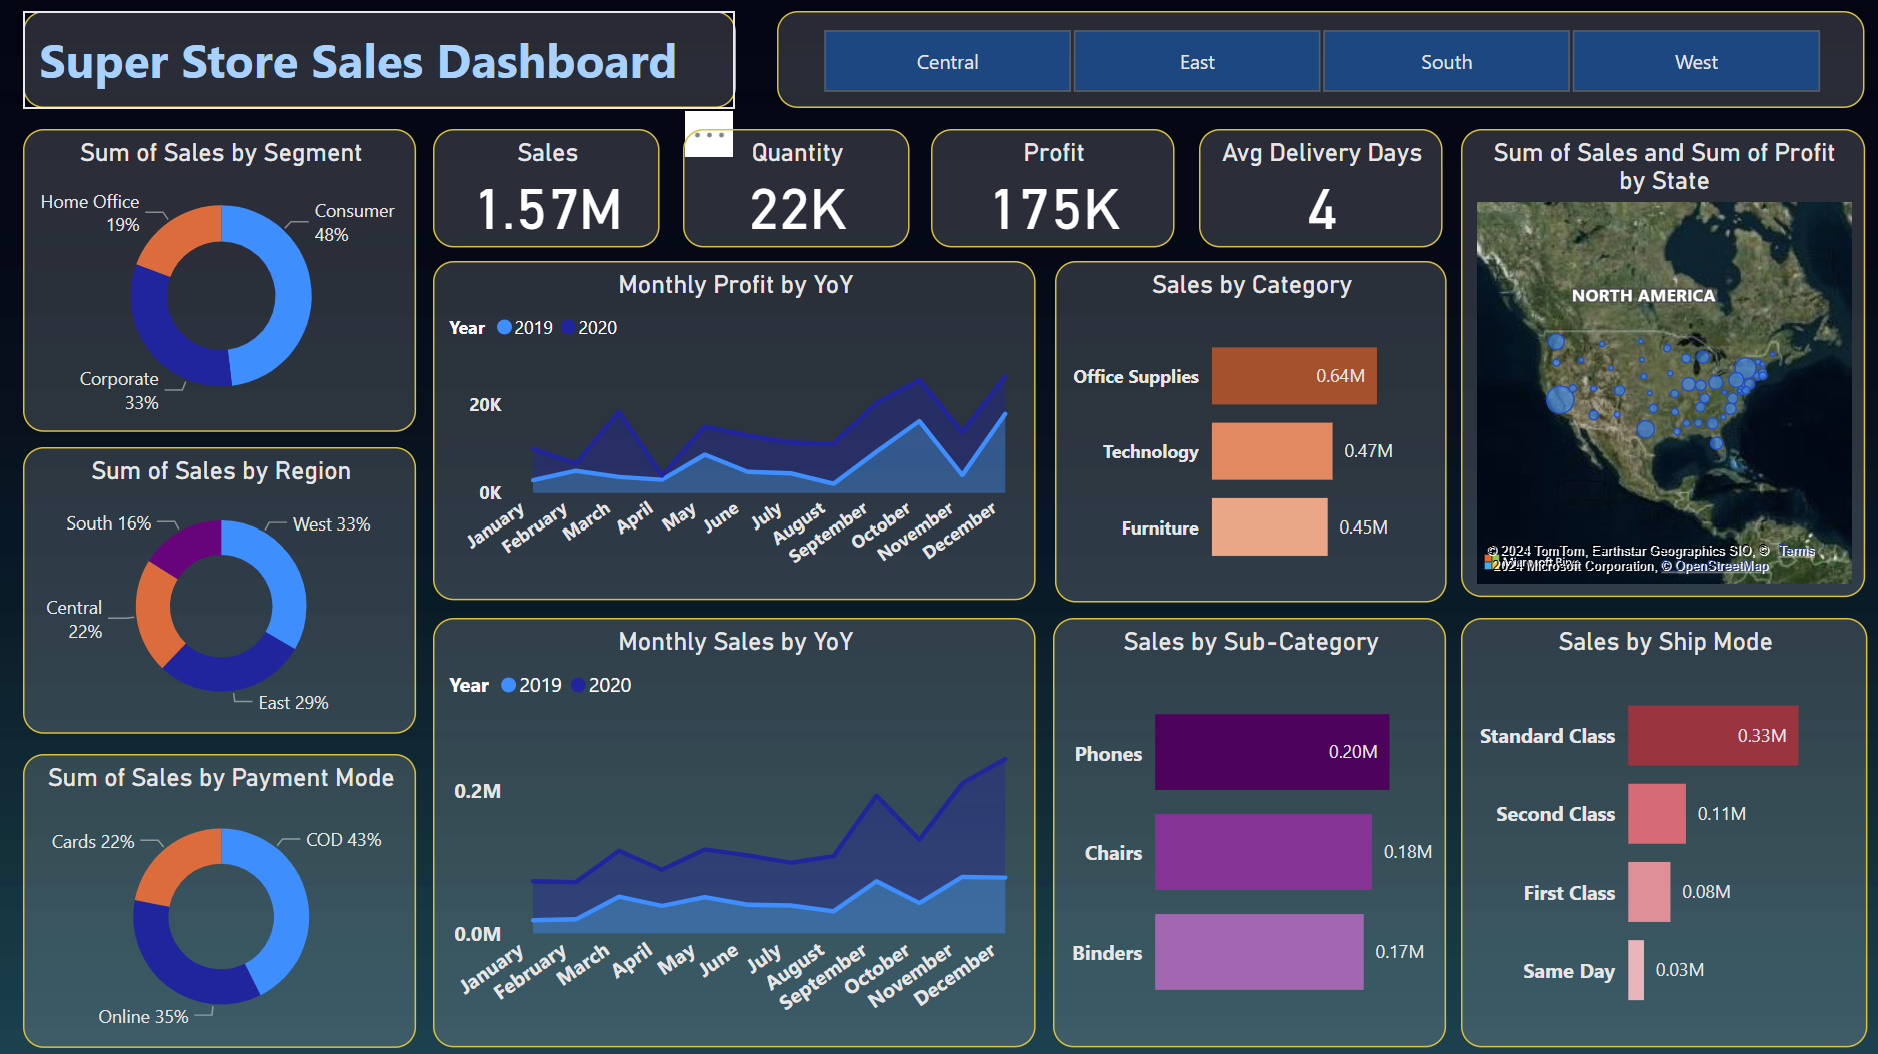

The page's visual inventory and layout, read from the dashboard file:
{"tool":"powerbi","page":{"name":"Page 1","canvas":[1280,720],"ordinal":0},"visuals":[{"type":"clusteredBarChart","title":"Sales by Category","fields":{"Category":["SuperStore_Sales_Dataset.Category"],"Y":["Sum(SuperStore_Sales_Dataset.Sales)"]},"box":[718.6,180,264.3,230],"z":0},{"type":"clusteredBarChart","title":"Sales by Sub-Category","fields":{"Y":["Sum(SuperStore_Sales_Dataset.Sales)"],"Category":["SuperStore_Sales_Dataset.Sub-Category"]},"box":[717.1,420,265.7,290],"z":1000},{"type":"clusteredBarChart","title":"Sales by Ship Mode","fields":{"Y":["Sum(SuperStore_Sales_Dataset.Sales)"],"Category":["SuperStore_Sales_Dataset.Ship Mode"]},"box":[992.9,420,274.3,290],"z":2000},{"type":"stackedAreaChart","title":"Monthly Sales by YoY","fields":{"Y":["Sum(SuperStore_Sales_Dataset.Sales)"],"Category":["SuperStore_Sales_Dataset.Order Date.Variation.Date Hierarchy.Month","SuperStore_Sales_Dataset.Order Date.Variation.Date Hierarchy.Day"],"Series":["SuperStore_Sales_Dataset.Order Date.Variation.Date Hierarchy.Year"]},"box":[298.6,420,407.1,290],"z":3000},{"type":"stackedAreaChart","title":"Monthly Profit by YoY","fields":{"Category":["SuperStore_Sales_Dataset.Order Date.Variation.Date Hierarchy.Month","SuperStore_Sales_Dataset.Order Date.Variation.Date Hierarchy.Day"],"Series":["SuperStore_Sales_Dataset.Order Date.Variation.Date Hierarchy.Year"],"Y":["Sum(SuperStore_Sales_Dataset.Profit)"]},"box":[298.6,180,407.1,228.6],"z":4000},{"type":"map","fields":{"Category":["SuperStore_Sales_Dataset.State"],"Size":["Sum(SuperStore_Sales_Dataset.Sales)"]},"box":[992.9,90,272.9,315.7],"z":5000},{"type":"donutChart","fields":{"Category":["SuperStore_Sales_Dataset.Segment"],"Y":["Sum(SuperStore_Sales_Dataset.Sales)"]},"box":[21.4,90,265.7,204.3],"z":6000},{"type":"donutChart","fields":{"Category":["SuperStore_Sales_Dataset.Payment Mode"],"Y":["Sum(SuperStore_Sales_Dataset.Sales)"]},"box":[21.4,511.4,265.7,198.6],"z":7000},{"type":"slicer","fields":{"Values":["SuperStore_Sales_Dataset.Region"]},"box":[531.4,11.4,734.3,65.7],"z":8000},{"type":"textbox","box":[21.4,11.4,481.4,65.7],"z":9000},{"type":"card","title":"Sales","fields":{"Values":["Sum(SuperStore_Sales_Dataset.Sales)"]},"box":[298.6,90,152.9,80],"z":10000},{"type":"donutChart","fields":{"Y":["Sum(SuperStore_Sales_Dataset.Sales)"],"Category":["SuperStore_Sales_Dataset.Region"]},"box":[21.4,305.7,265.7,192.9],"z":11000},{"type":"card","title":"Quantity","fields":{"Values":["Sum(SuperStore_Sales_Dataset.Quantity)"]},"box":[467.1,90,152.9,80],"z":12000},{"type":"card","title":"Profit","fields":{"Values":["Sum(SuperStore_Sales_Dataset.Profit)"]},"box":[634.3,90,164.3,80],"z":13000},{"type":"card","title":"Avg Delivery Days","fields":{"Values":["Avg(SuperStore_Sales_Dataset.AvgDelivery)"]},"box":[815.7,90,164.3,80],"z":14000}]}

Visuals, with their boxes in screenshot pixels (x1, y1, x2, y2), scaled from the page's 1280x720 canvas onto the 1878x1054 screenshot:
"Sales by Category" clusteredBarChart: (left=1054, top=264, right=1442, bottom=600)
"Sales by Sub-Category" clusteredBarChart: (left=1052, top=615, right=1442, bottom=1039)
"Sales by Ship Mode" clusteredBarChart: (left=1457, top=615, right=1859, bottom=1039)
"Monthly Sales by YoY" stackedAreaChart: (left=438, top=615, right=1035, bottom=1039)
"Monthly Profit by YoY" stackedAreaChart: (left=438, top=264, right=1035, bottom=598)
map - SuperStore_Sales_Dataset.State x Sum(SuperStore_Sales_Dataset.Sales): (left=1457, top=132, right=1857, bottom=594)
donutChart - SuperStore_Sales_Dataset.Segment x Sum(SuperStore_Sales_Dataset.Sales): (left=31, top=132, right=421, bottom=431)
donutChart - SuperStore_Sales_Dataset.Payment Mode x Sum(SuperStore_Sales_Dataset.Sales): (left=31, top=749, right=421, bottom=1039)
slicer - SuperStore_Sales_Dataset.Region: (left=780, top=17, right=1857, bottom=113)
textbox: (left=31, top=17, right=738, bottom=113)
"Sales" card: (left=438, top=132, right=662, bottom=249)
donutChart - Sum(SuperStore_Sales_Dataset.Sales) x SuperStore_Sales_Dataset.Region: (left=31, top=448, right=421, bottom=730)
"Quantity" card: (left=685, top=132, right=910, bottom=249)
"Profit" card: (left=931, top=132, right=1172, bottom=249)
"Avg Delivery Days" card: (left=1197, top=132, right=1438, bottom=249)
